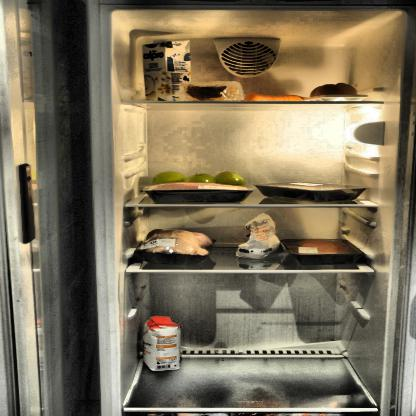apple: (152, 172, 246, 188)
beef: (294, 238, 353, 264)
carrot: (240, 94, 310, 102)
chicken: (135, 228, 214, 266)
eggs: (310, 82, 360, 101)
ground_beef: (145, 181, 252, 202)
milk: (140, 39, 190, 104)
